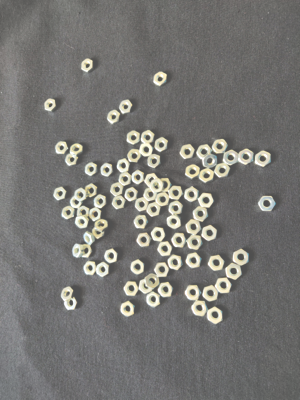nut: (258, 196, 277, 212), (233, 249, 250, 266), (226, 263, 243, 280), (192, 300, 209, 317), (256, 150, 272, 168), (203, 285, 219, 303), (208, 306, 223, 325), (216, 278, 233, 294), (209, 255, 225, 272), (202, 225, 218, 242), (193, 206, 210, 222), (202, 153, 218, 169), (199, 168, 215, 184), (186, 253, 202, 269), (158, 282, 174, 298), (196, 145, 213, 160), (187, 235, 204, 250), (239, 149, 254, 165), (224, 150, 239, 166), (215, 163, 231, 178), (186, 286, 202, 301), (199, 193, 215, 208), (180, 144, 195, 160), (186, 220, 202, 235), (168, 255, 183, 271), (154, 263, 170, 278), (145, 274, 160, 290), (121, 301, 135, 318), (213, 139, 228, 154), (186, 165, 201, 180), (172, 233, 187, 248), (158, 242, 173, 257), (151, 227, 166, 242), (137, 233, 152, 248), (124, 282, 139, 297), (127, 149, 142, 164), (185, 187, 199, 203), (131, 259, 145, 275), (127, 130, 141, 146), (155, 137, 169, 152), (169, 186, 184, 200), (167, 214, 181, 229), (147, 203, 162, 217), (135, 197, 149, 212), (134, 215, 149, 229), (107, 110, 121, 125), (112, 195, 126, 210), (104, 249, 118, 264), (61, 287, 75, 302), (75, 215, 90, 229), (154, 71, 167, 87), (147, 292, 160, 308), (97, 262, 110, 278), (75, 187, 88, 203), (169, 201, 183, 215), (139, 280, 153, 294), (158, 178, 172, 192), (156, 193, 170, 207), (151, 179, 165, 193), (145, 174, 159, 188), (144, 188, 158, 202), (141, 130, 155, 144), (140, 143, 154, 157), (117, 159, 131, 173), (148, 154, 161, 169), (120, 100, 133, 115), (132, 170, 145, 185), (125, 187, 138, 202), (111, 182, 124, 197), (85, 162, 98, 177), (85, 183, 98, 198), (119, 172, 132, 186), (101, 163, 114, 177), (84, 261, 97, 275), (65, 297, 78, 311), (94, 195, 107, 209), (89, 208, 102, 222), (54, 187, 67, 201), (62, 206, 75, 220), (70, 144, 83, 157), (65, 153, 78, 166), (95, 220, 108, 233), (92, 226, 105, 239), (82, 59, 94, 73), (84, 231, 95, 246), (56, 142, 68, 155), (77, 206, 90, 218), (71, 196, 83, 209), (82, 244, 93, 258), (73, 244, 84, 258), (45, 99, 56, 112)
